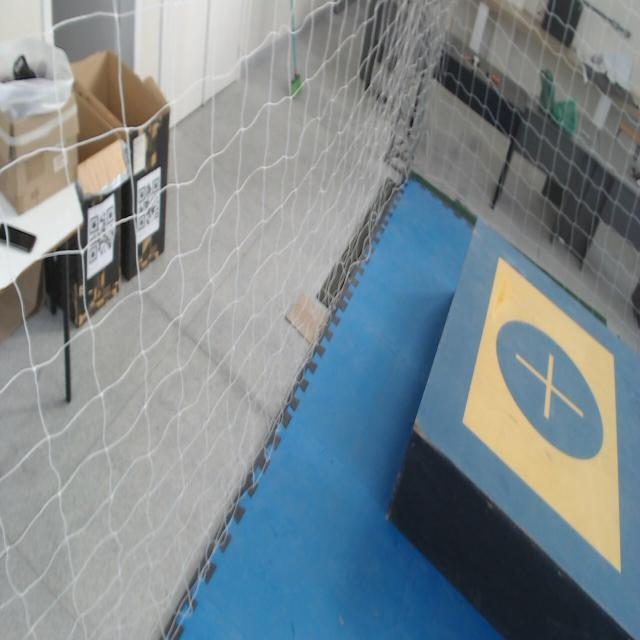base_pouso: (462, 255, 621, 572)
